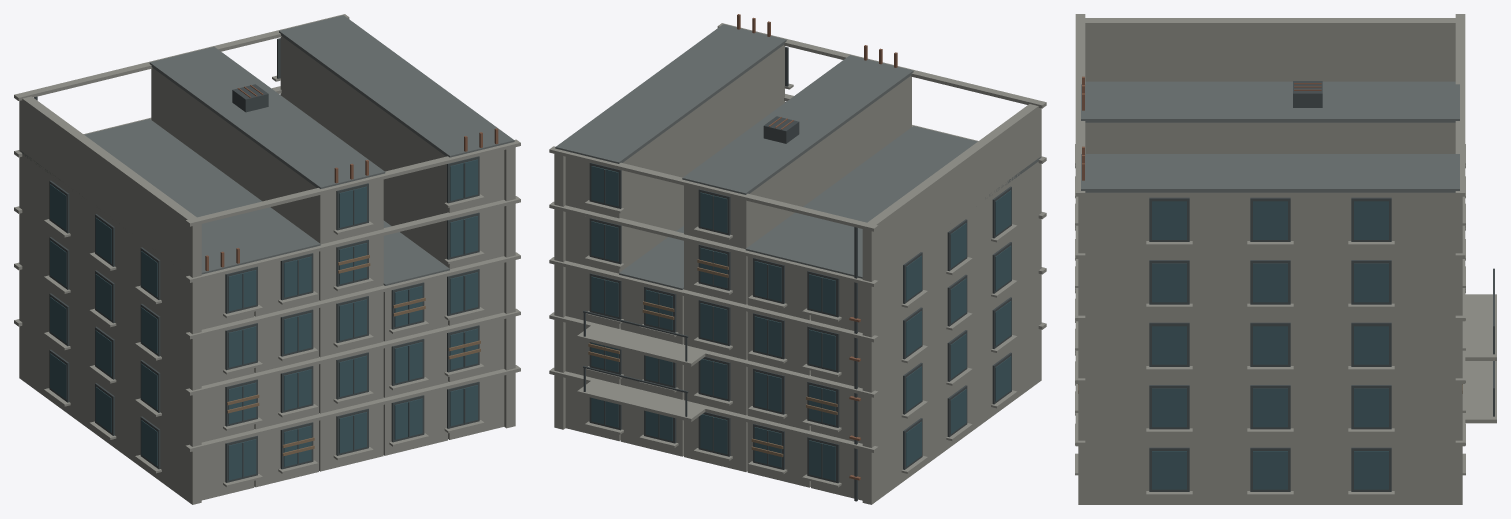
Rendered from Ville_Batiment_03.fbx.
3 views of the same model, side by side, from view 1: azimuth 30°, elevation 25°; view 2: azimuth 150°, elevation 25°; view 3: azimuth 270°, elevation 25° (orthographic). The views are drawn at different scales.
Parts seen in each view (by area): view 1: Ville_Batiment_03_concrete, Ville_Batiment_03_concrete_dark, Ville_Batiment_03_glass, Ville_Batiment_03_iron, Ville_Batiment_03_wood, Ville_Batiment_03_rust; view 2: Ville_Batiment_03_concrete, Ville_Batiment_03_concrete_dark, Ville_Batiment_03_glass, Ville_Batiment_03_iron, Ville_Batiment_03_wood, Ville_Batiment_03_rust; view 3: Ville_Batiment_03_concrete, Ville_Batiment_03_concrete_dark, Ville_Batiment_03_glass, Ville_Batiment_03_iron.
Part boxes in pixels (x1,y1,x2,y2): Ville_Batiment_03_concrete: (14,14,520,504); Ville_Batiment_03_concrete_dark: (20,15,514,285); Ville_Batiment_03_glass: (50,159,477,480); Ville_Batiment_03_iron: (34,38,479,482); Ville_Batiment_03_wood: (227,254,480,456); Ville_Batiment_03_rust: (205,85,498,270); Ville_Batiment_03_concrete: (549,23,1046,504); Ville_Batiment_03_concrete_dark: (555,24,1040,289); Ville_Batiment_03_glass: (591,166,1011,480); Ville_Batiment_03_iron: (583,46,1011,501); Ville_Batiment_03_wood: (588,259,837,457); Ville_Batiment_03_rust: (737,14,897,480); Ville_Batiment_03_concrete: (1075,14,1496,504); Ville_Batiment_03_concrete_dark: (1081,81,1459,192); Ville_Batiment_03_glass: (1152,201,1388,489); Ville_Batiment_03_iron: (1149,81,1494,491).
Size of the model in its own units: 43.56 by 37.2 by 42.85.
